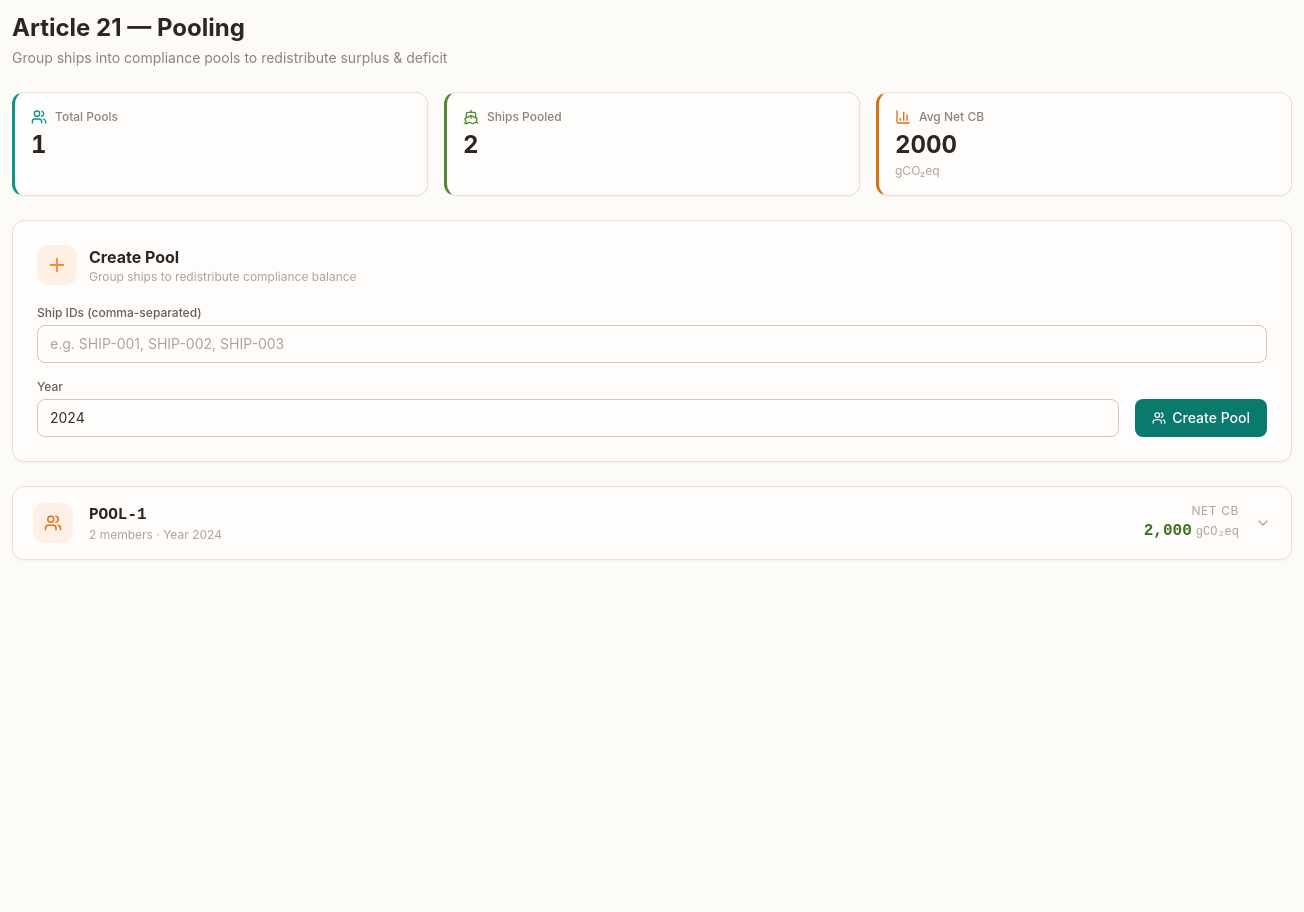
Scenario: PoolingTab › creates pool successfully
The width and height of the screenshot is (1304, 912).
Check: the text "POOL-1" is shown, box [89,506,147,524]
Type "SHIP-A, SHIP-B" into the field with placeholder "e.g. SHIP-001, SHIP-002, SHIP-003" at (652, 344), box [37,325,1267,363]
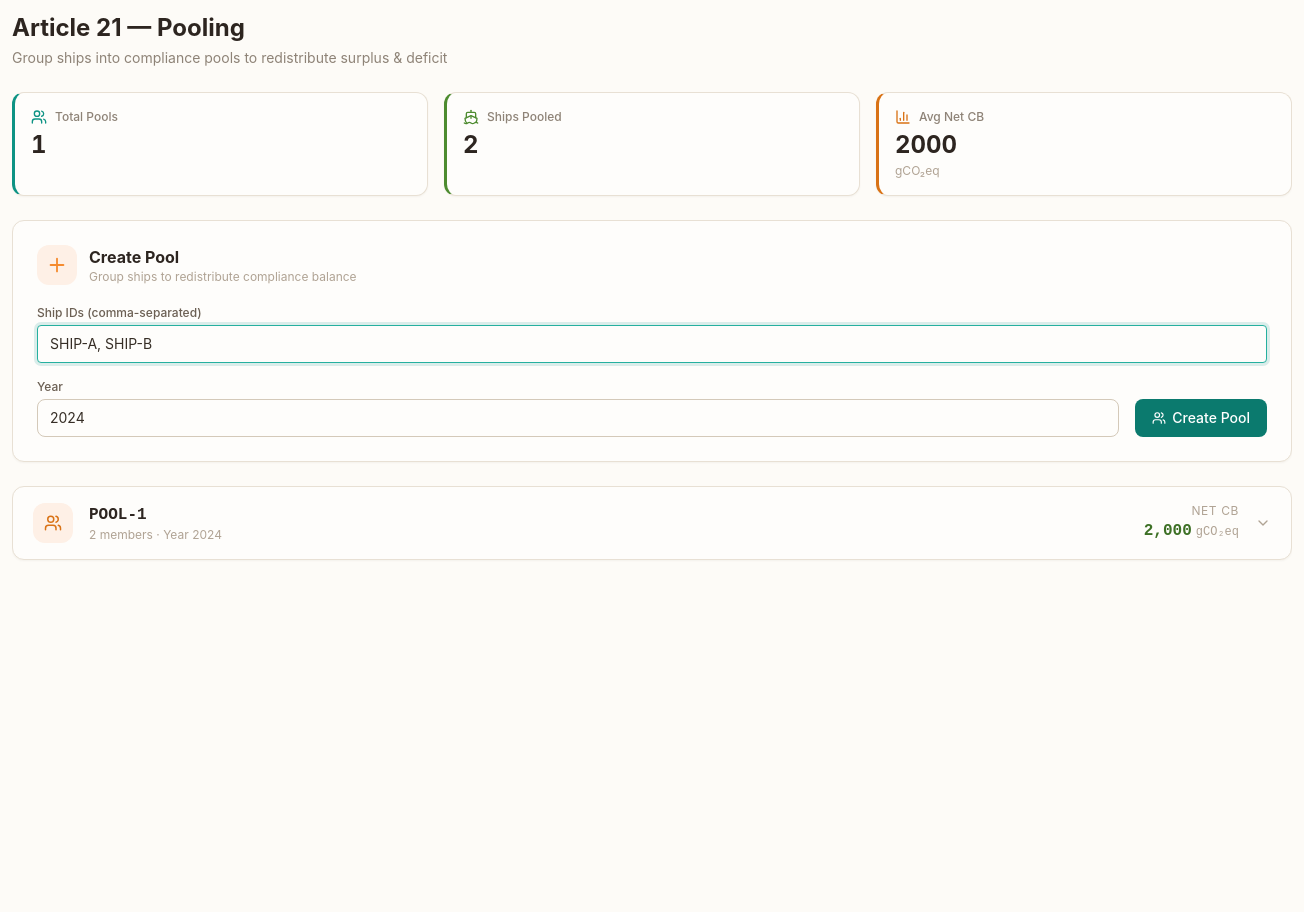
Click the button "Create Pool" at (1201, 418), box [1135,399,1267,437]
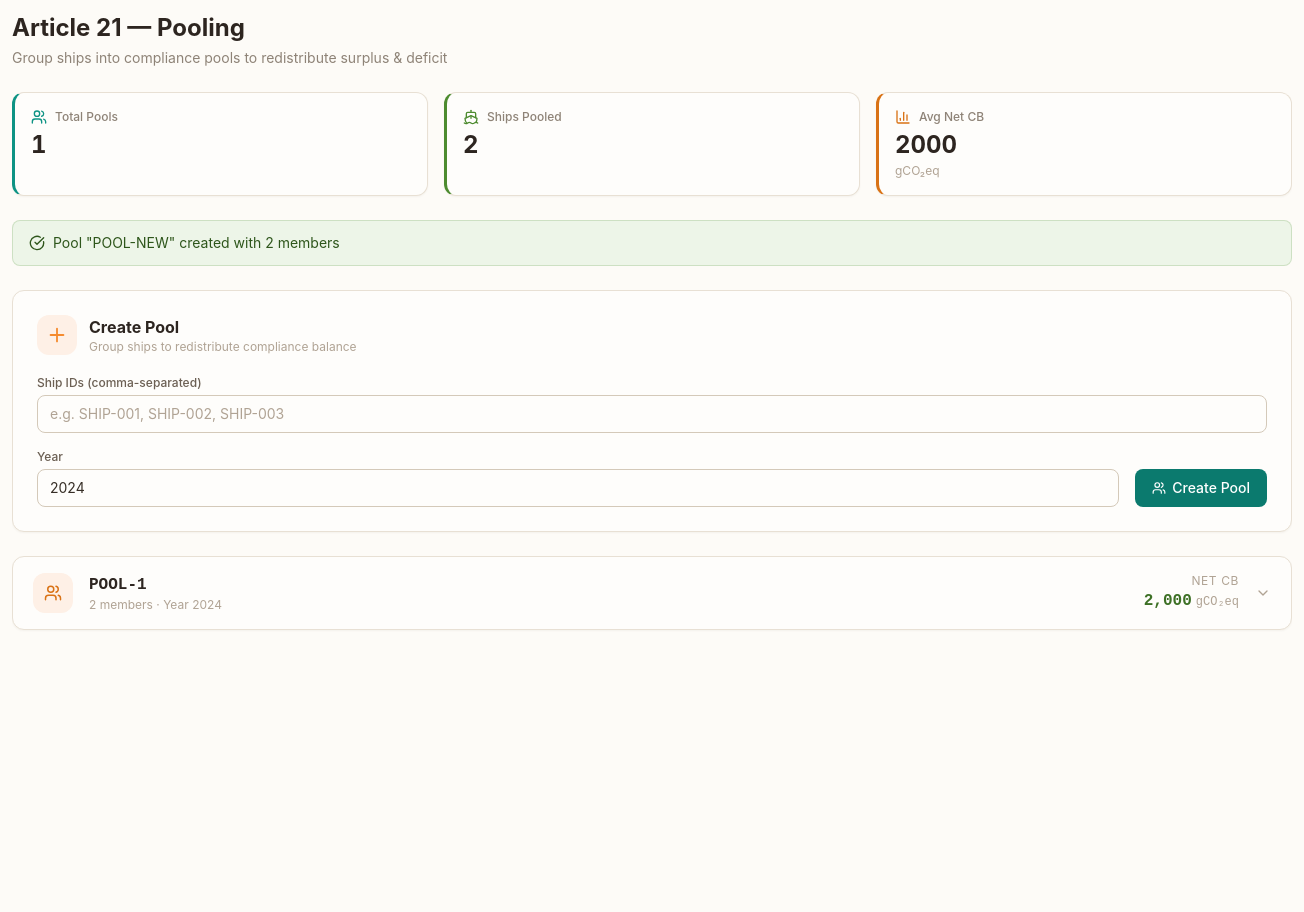
Check: the text "Pool \"POOL-NEW\" created with 2 members" is shown, box [53,233,340,253]
